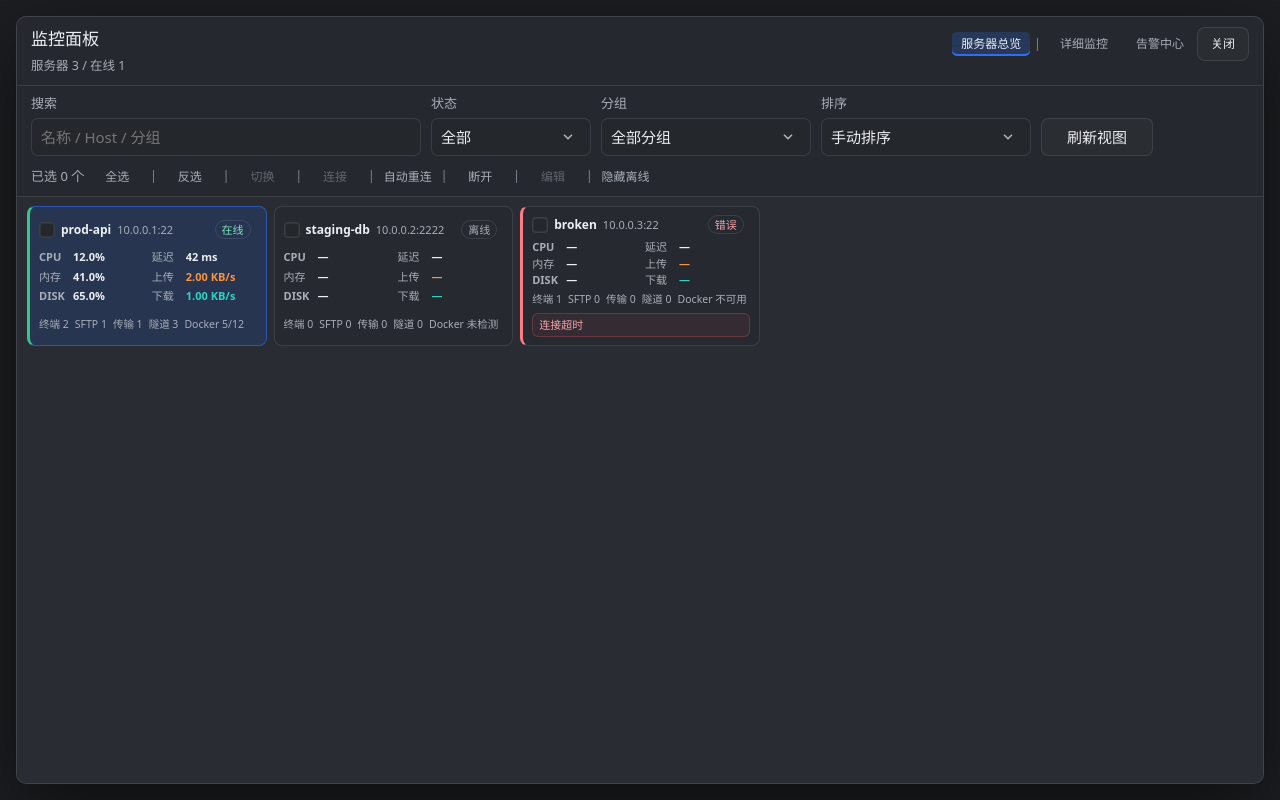
Test case: MultiServerDashboardDialog › hides offline servers as a session-only filter layered with status filters
Click the button with test id "dashboard-hide-offline".
click(626, 176)  # box x1=597 y1=164 x2=655 y2=188
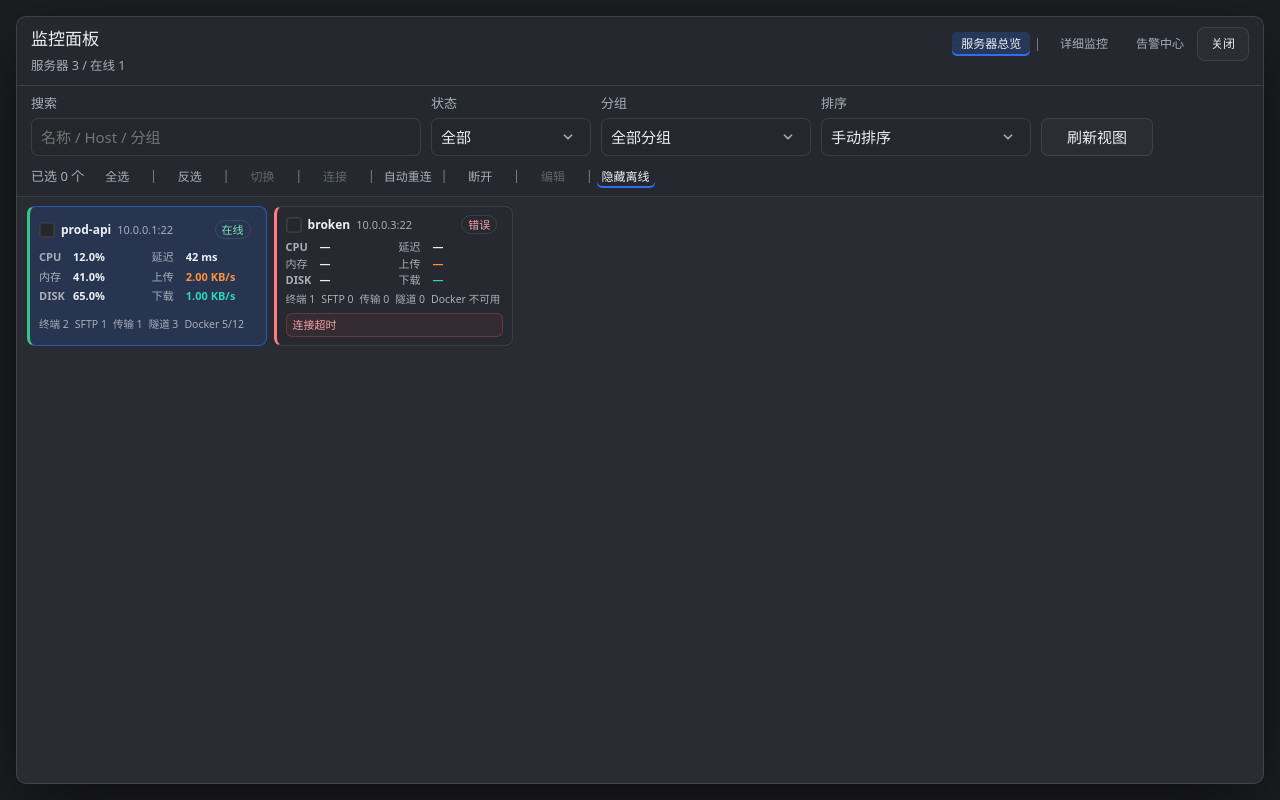
expect the text "prod-api" is shown: met, box x1=61 y1=221 x2=111 y2=239
expect the text "staging-db" is gone: met
Select "离线" in the dropdown with test id "dashboard-status-filter" at (511, 137), box x1=431 y1=118 x2=591 y2=156
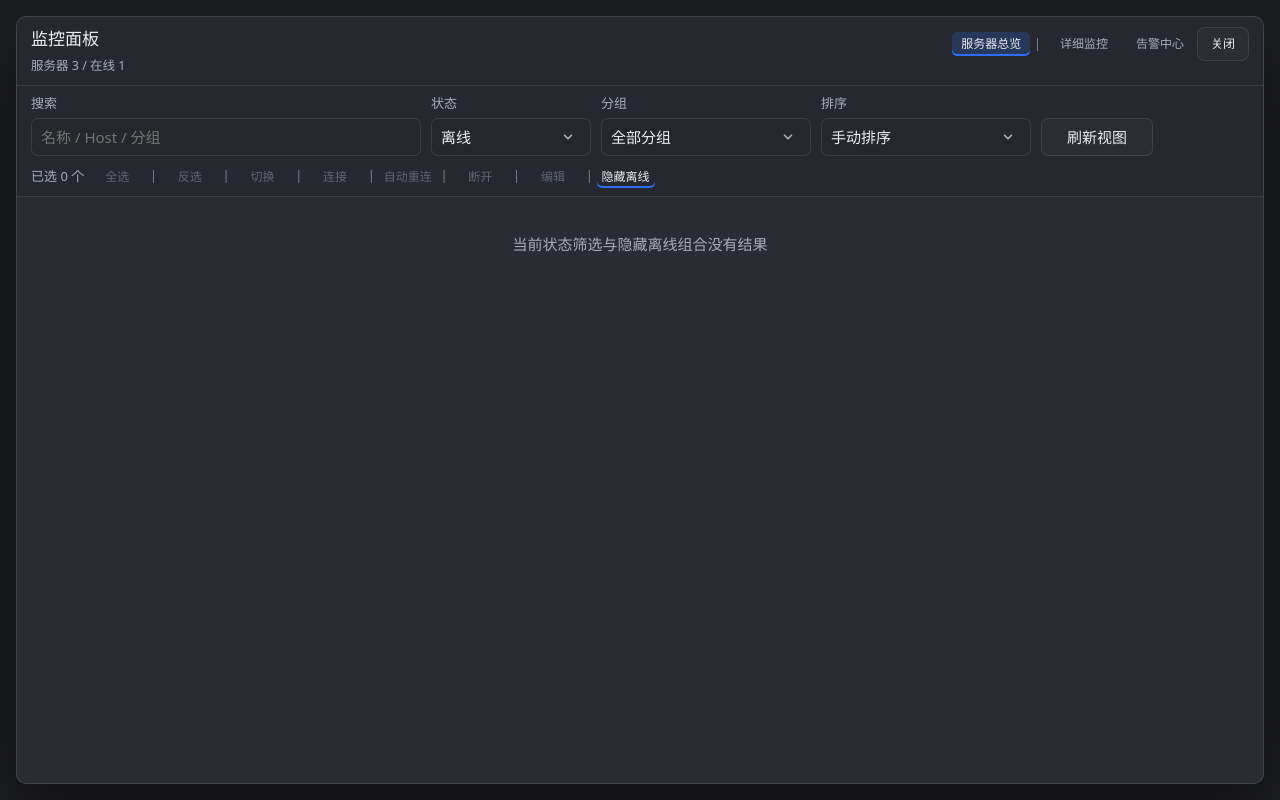
expect no elements with test id "dashboard-server-card" are shown: met
expect the text "当前状态筛选与隐藏离线组合没有结果" is shown: met, box x1=512 y1=234 x2=768 y2=254
Click the button with test id "dashboard-hide-offline".
click(626, 176)  # box x1=597 y1=164 x2=655 y2=188
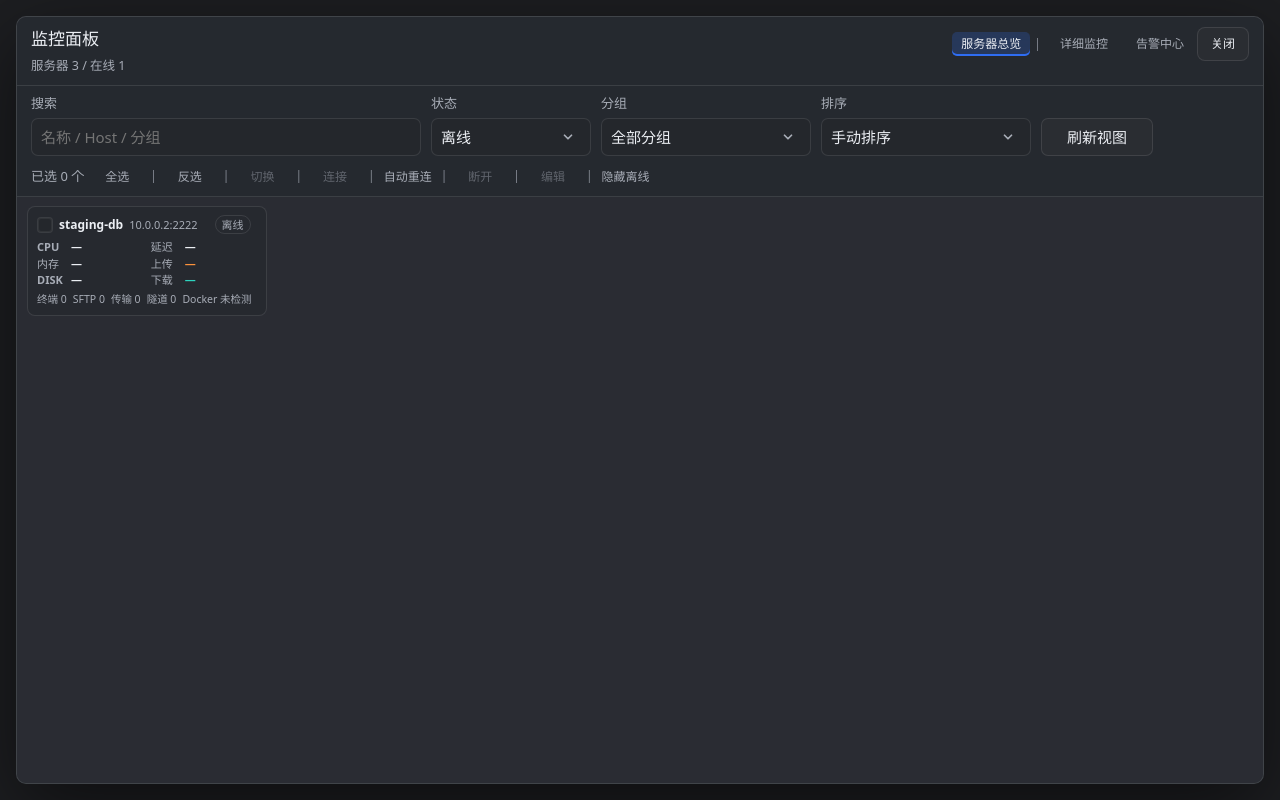
expect the text "staging-db" is shown: met, box x1=59 y1=216 x2=123 y2=234
